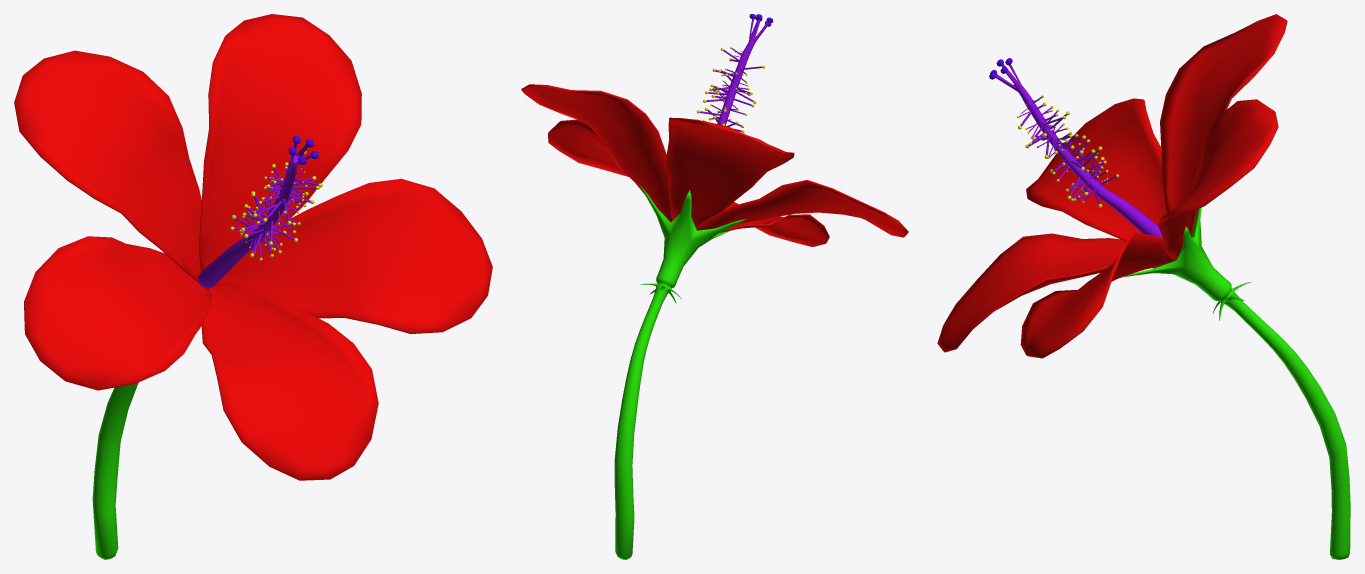
The model's file is Flower_Prop.fbx.
3 renders of one model, left to right at view 1: azimuth 30°, elevation 25°; view 2: azimuth 150°, elevation 25°; view 3: azimuth 270°, elevation 25°, orthographic. The views are drawn at different scales.
Visible parts, largest first — view 1: Flower_Mesh; view 2: Flower_Mesh; view 3: Flower_Mesh.
Part boxes in pixels (<box>): Flower_Mesh: <box>14,14,492,559</box>; Flower_Mesh: <box>521,14,908,559</box>; Flower_Mesh: <box>937,14,1350,559</box>.
Size of the model in its own units: 14.1 by 16.51 by 12.22.
